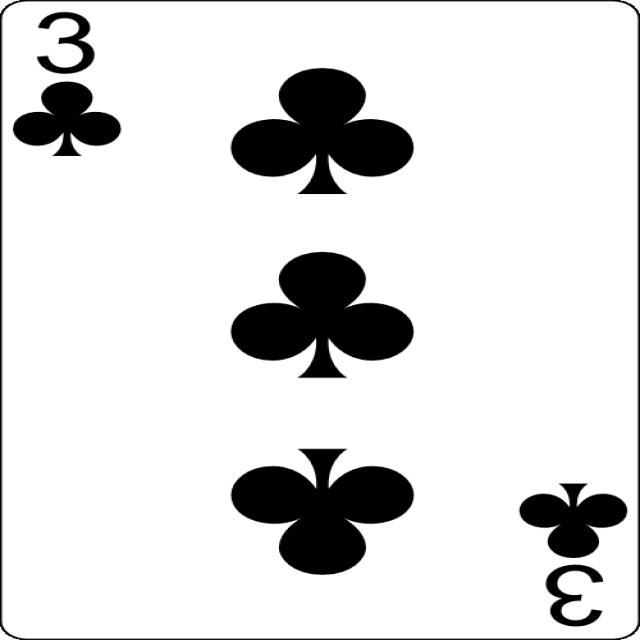Club: (230, 251, 414, 379), (230, 448, 414, 575), (230, 68, 414, 194), (13, 81, 122, 157), (519, 483, 627, 558)
